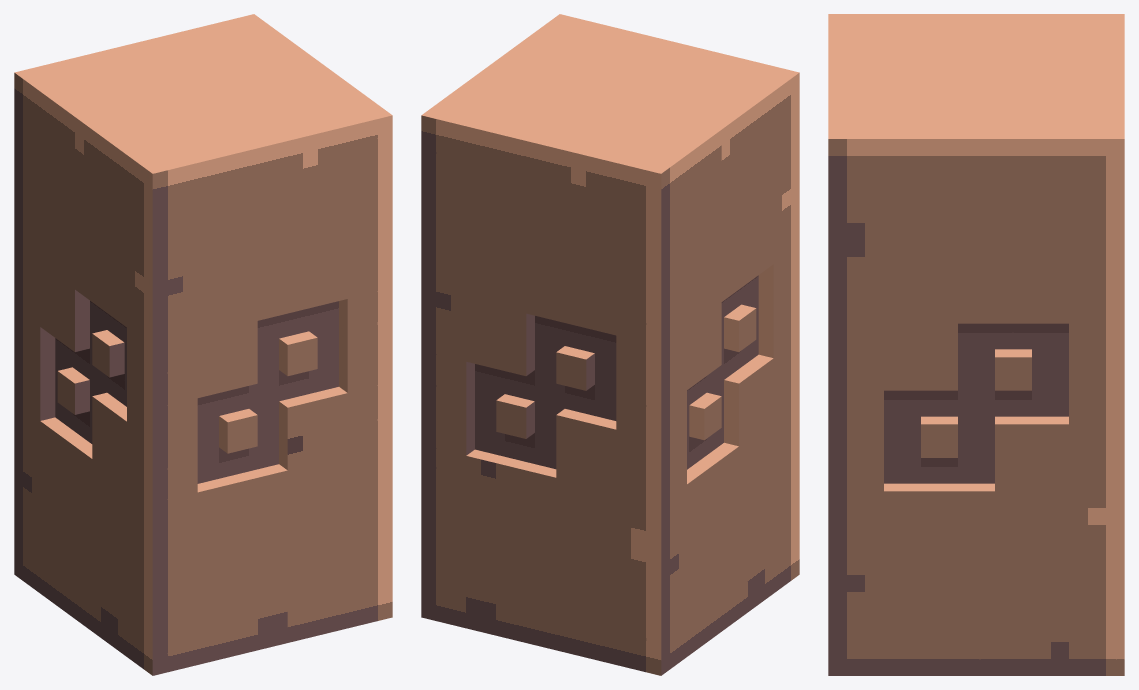
File: secret_wallao.fezao.glb
The picture shows the model from 3 angles, left to right: view 1: azimuth 30°, elevation 25°; view 2: azimuth 150°, elevation 25°; view 3: azimuth 270°, elevation 25°; orthographic projection. The views are drawn at different scales.
Parts seen in each view (by area): view 1: SECRET_WALLAO; view 2: SECRET_WALLAO; view 3: SECRET_WALLAO.
Part boxes in pixels (<box>): SECRET_WALLAO: <box>14,14,392,675</box>; SECRET_WALLAO: <box>421,14,799,675</box>; SECRET_WALLAO: <box>828,14,1124,675</box>.
Bounding box in the file's own units: 1 × 2 × 1.
Materials: 1 (1 with a texture image).
